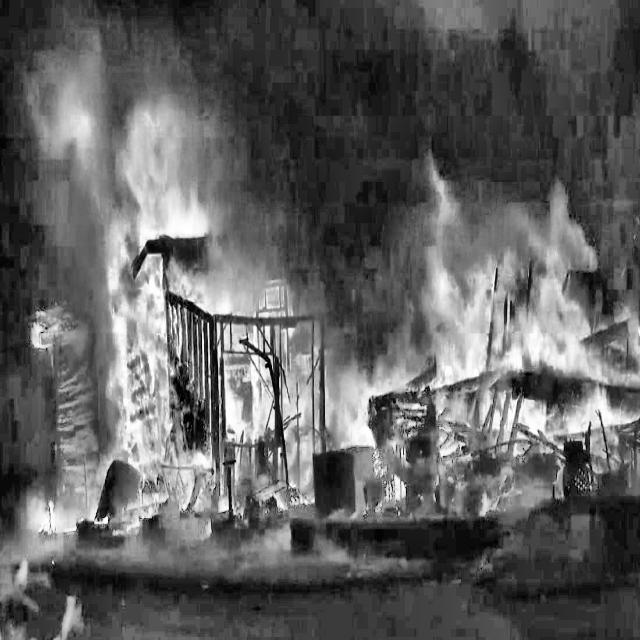fire: (15, 49, 350, 565), (391, 118, 629, 545)
